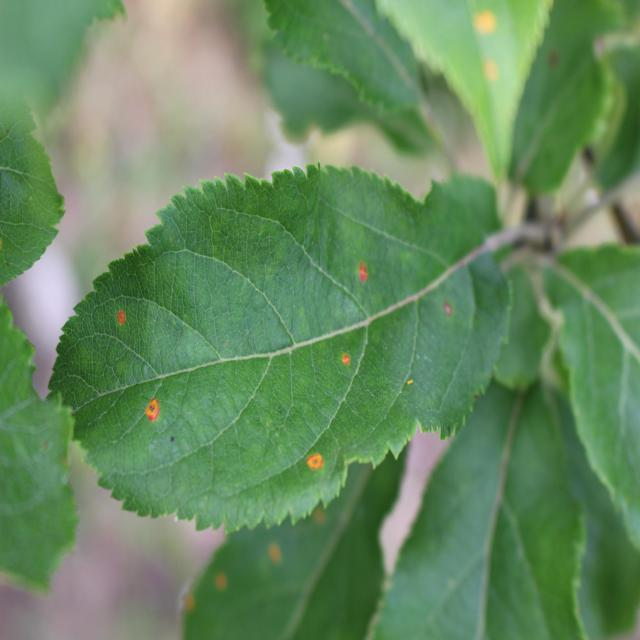rust: (48, 161, 514, 533)
